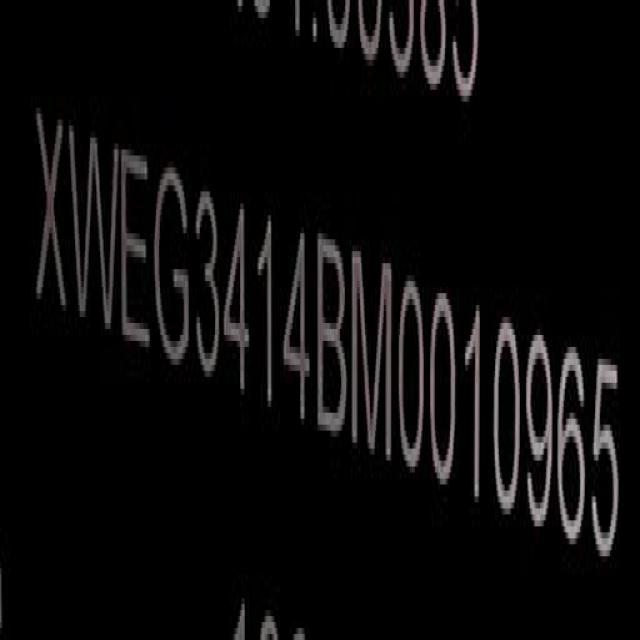0: (492, 304, 520, 525), (429, 277, 456, 492), (398, 273, 426, 474)
1: (256, 210, 276, 414), (463, 297, 482, 509)
3: (192, 173, 220, 390)
4: (220, 188, 254, 401), (283, 224, 314, 443)
5: (589, 350, 623, 554)
9: (556, 322, 586, 550), (524, 312, 552, 528)
B: (315, 230, 346, 434)
E: (119, 138, 153, 364)
G: (151, 164, 191, 365)
M: (350, 244, 394, 465)
W: (68, 115, 120, 330)
X: (36, 97, 68, 339)
